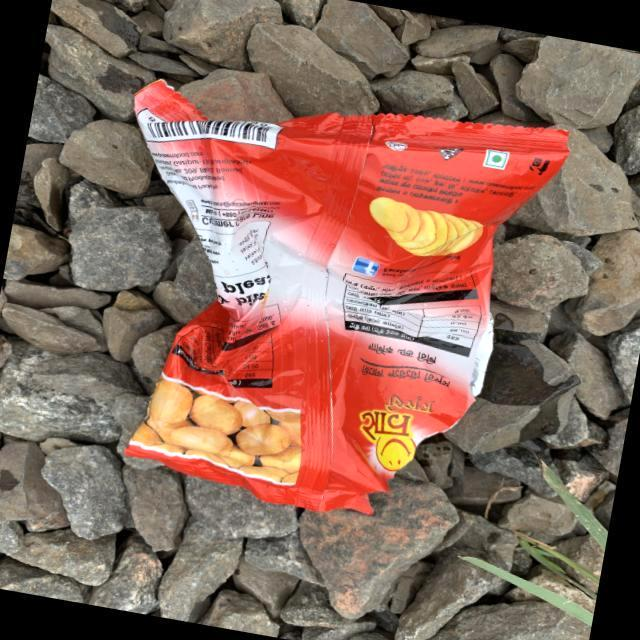packet: (176, 100, 467, 487)
